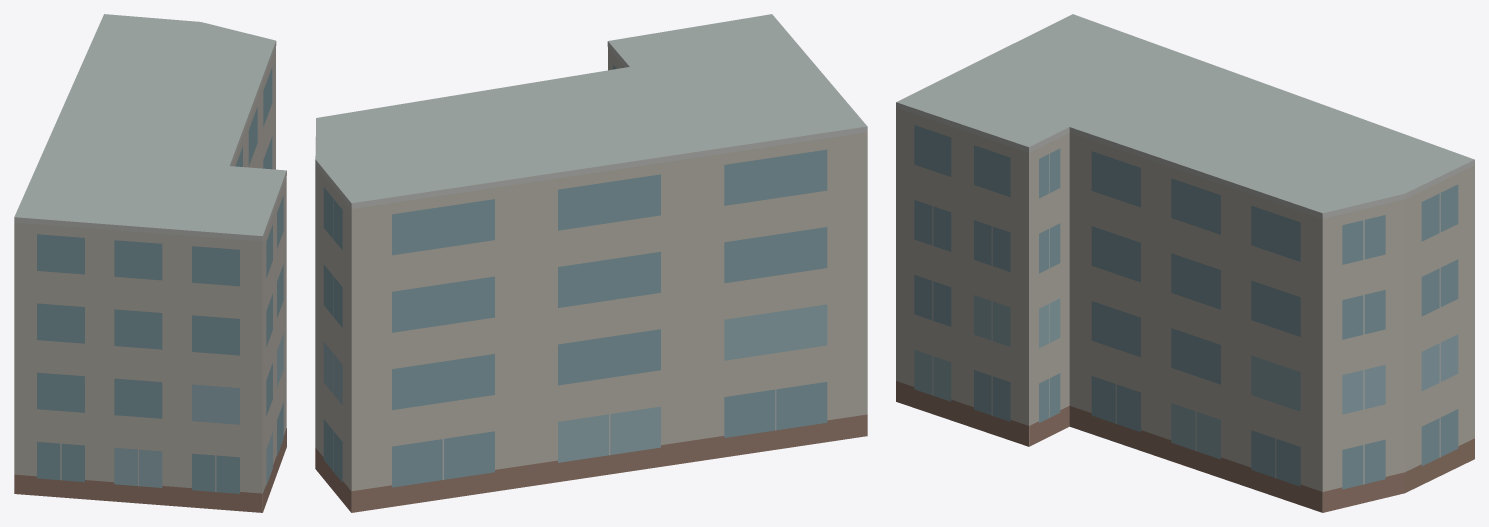
The model's file is survey-upis-32763552.glb.
3 renders of one model, left to right at view 1: azimuth 30°, elevation 25°; view 2: azimuth 150°, elevation 25°; view 3: azimuth 270°, elevation 25°, orthographic. The views are drawn at different scales.
Visible parts, largest first — view 1: survey-upis-32763552.tmp; view 2: survey-upis-32763552.tmp; view 3: survey-upis-32763552.tmp.
Part boxes in pixels (x1,y1,x2,y2): survey-upis-32763552.tmp: (14, 14, 286, 512); survey-upis-32763552.tmp: (315, 14, 867, 512); survey-upis-32763552.tmp: (896, 14, 1474, 512).
Size of the model in its own units: 18.61 by 13.03 by 22.82.
